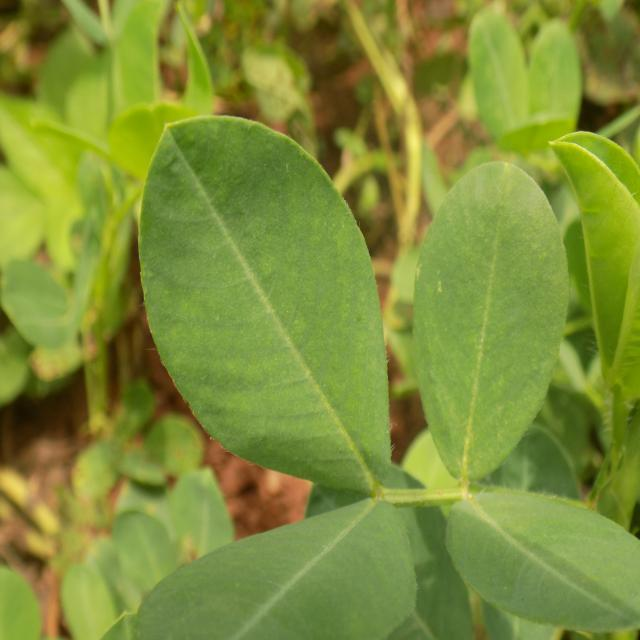Ground nut_healthy: (142, 120, 385, 492), (417, 161, 568, 485)
